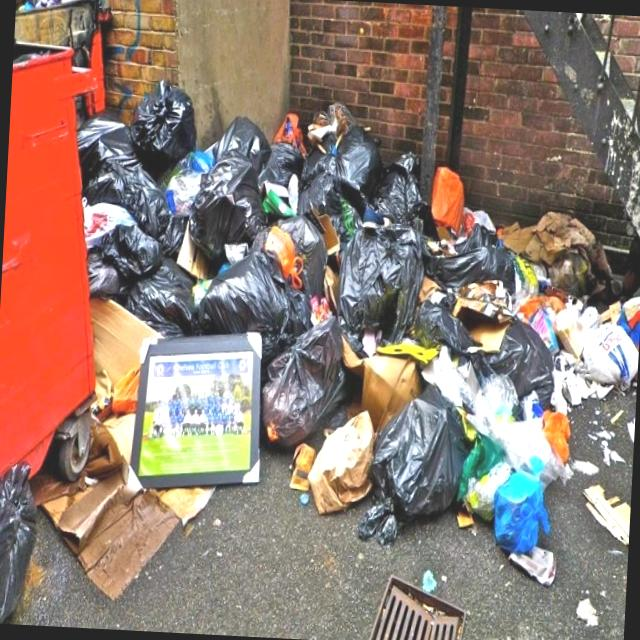garbage: (0, 40, 640, 622), (175, 0, 291, 147)
